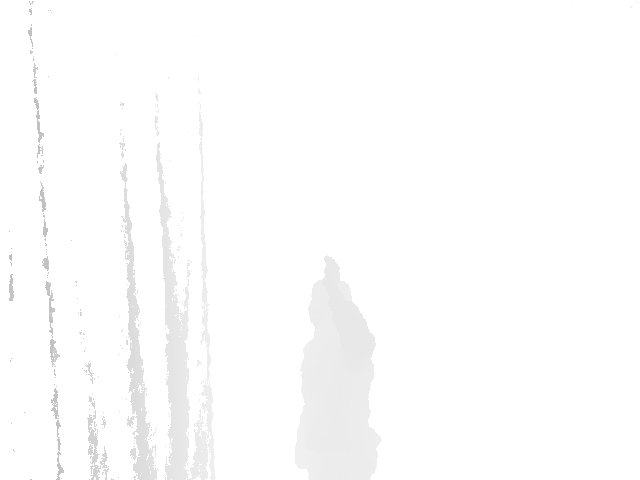hand: (321, 254, 347, 297)
head: (304, 276, 354, 328)
person: (289, 254, 382, 480)
